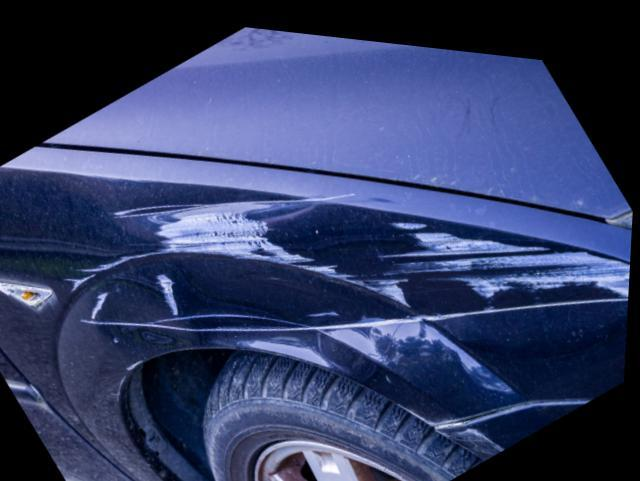dent: (212, 258, 418, 365)
scratch: (64, 182, 632, 323)
